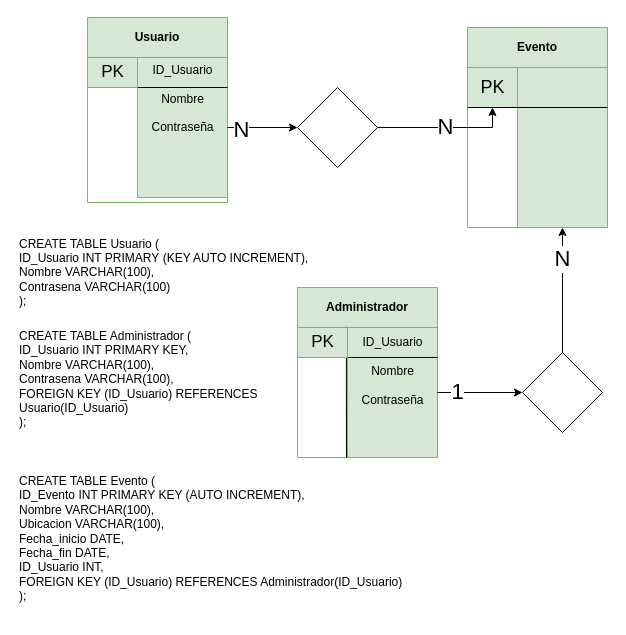
The diagram is 626 pixels wide and 635 high, and some of its shapes have lost their labels. The centre of each missing label's shape, as x and y in pixels:
Gestiona: point (562, 392)
ID_Evento Nombre Ubicación Fecha inicio Fecha fin: point (562, 147)
Participa: point (337, 127)
